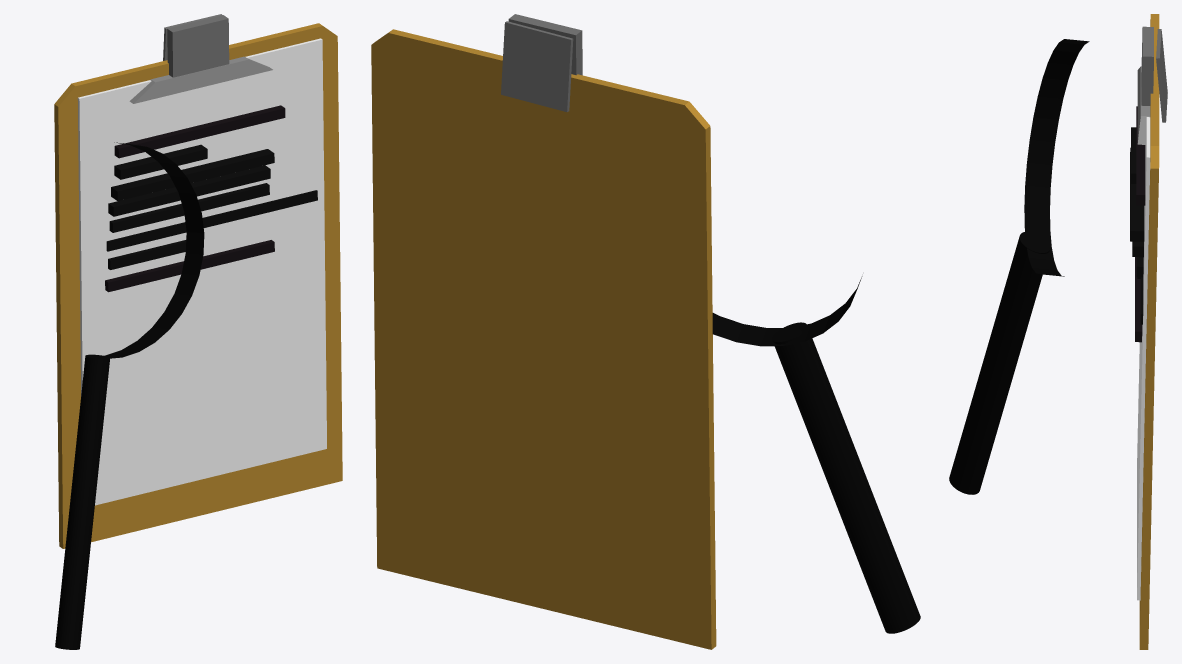
3 renders of one model, left to right at view 1: azimuth 30°, elevation 25°; view 2: azimuth 150°, elevation 25°; view 3: azimuth 270°, elevation 25°, orthographic. The views are drawn at different scales.
Parts seen in each view (by area): view 1: Plane.001, Plane, Cylinder, Circle, Cube, Cube.003, Cube.001, Plane.002, Cube.007, Cube.008, Cube.010, Cube.006 (+2 smaller); view 2: Plane, Cylinder, Cube.005, Circle, Cube; view 3: Cylinder, Circle, Plane, Plane.001, Cube, Cube.003, Cube.005, Cube.001, Plane.002, Cube.010, Cube.002.
Boxes of the visible parts, x1=… form: Plane.001: x1=77, y1=38, x2=326, y2=505; Plane: x1=54, y1=23, x2=342, y2=548; Cylinder: x1=55, y1=354, x2=109, y2=649; Circle: x1=104, y1=142, x2=204, y2=358; Cube: x1=167, y1=15, x2=229, y2=77; Cube.003: x1=111, y1=149, x2=274, y2=200; Cube.001: x1=114, y1=105, x2=285, y2=158; Plane.002: x1=129, y1=56, x2=272, y2=103; Cube.007: x1=108, y1=165, x2=270, y2=216; Cube.008: x1=106, y1=190, x2=317, y2=251; Cube.010: x1=105, y1=240, x2=274, y2=292; Cube.006: x1=109, y1=183, x2=269, y2=232; Plane: x1=371, y1=29, x2=716, y2=649; Cylinder: x1=772, y1=322, x2=920, y2=633; Cube.005: x1=501, y1=21, x2=573, y2=111; Circle: x1=712, y1=276, x2=862, y2=346; Cube: x1=508, y1=14, x2=582, y2=75; Cylinder: x1=949, y1=232, x2=1050, y2=494; Circle: x1=1024, y1=39, x2=1089, y2=276; Plane: x1=1139, y1=14, x2=1159, y2=649; Plane.001: x1=1137, y1=117, x2=1150, y2=600; Cube: x1=1141, y1=26, x2=1153, y2=105; Cube.003: x1=1130, y1=147, x2=1144, y2=241; Cube.005: x1=1156, y1=29, x2=1167, y2=122; Cube.001: x1=1136, y1=106, x2=1145, y2=205; Plane.002: x1=1137, y1=66, x2=1150, y2=144; Cube.010: x1=1135, y1=257, x2=1142, y2=342; Cube.002: x1=1131, y1=127, x2=1136, y2=183.
Size of the model in its own units: 3.09 by 4.14 by 1.46.
